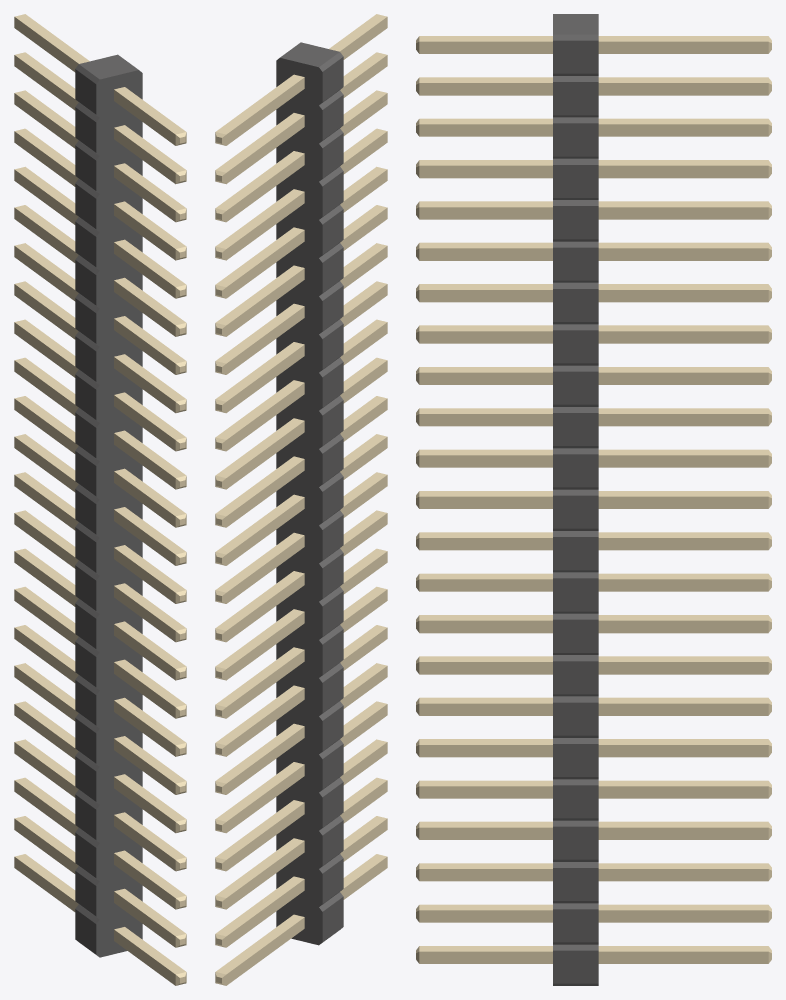
Rendered from PinHeader_1x23_P1.00mm_Vertical.glb.
3 views of the same model, side by side, from view 1: azimuth 30°, elevation 25°; view 2: azimuth 150°, elevation 25°; view 3: azimuth 270°, elevation 25° (orthographic). The views are drawn at different scales.
Visible parts, largest first — view 1: Shape_IndexedFaceSet.003, Shape_IndexedFaceSet.001, Shape_IndexedFaceSet.270, Shape_IndexedFaceSet.247, Shape_IndexedFaceSet.274, Shape_IndexedFaceSet.294, Shape_IndexedFaceSet.306, Shape_IndexedFaceSet.317, Shape_IndexedFaceSet.238, Shape_IndexedFaceSet.254, Shape_IndexedFaceSet.267, Shape_IndexedFaceSet.283 (+105 smaller); view 2: Shape_IndexedFaceSet.004, Shape_IndexedFaceSet.247, Shape_IndexedFaceSet.270, Shape_IndexedFaceSet.238, Shape_IndexedFaceSet.262, Shape_IndexedFaceSet.283, Shape_IndexedFaceSet.289, Shape_IndexedFaceSet.253, Shape_IndexedFaceSet.259, Shape_IndexedFaceSet.279, Shape_IndexedFaceSet.293, Shape_IndexedFaceSet.294 (+105 smaller); view 3: Shape_IndexedFaceSet.269, Shape_IndexedFaceSet.308, Shape_IndexedFaceSet.237, Shape_IndexedFaceSet.249, Shape_IndexedFaceSet.256, Shape_IndexedFaceSet.272, Shape_IndexedFaceSet.276, Shape_IndexedFaceSet.291, Shape_IndexedFaceSet.300, Shape_IndexedFaceSet.313, Shape_IndexedFaceSet.315, Shape_IndexedFaceSet.325 (+104 smaller).
Boxes of the visible parts, box(x1,y1,x2,y2) form: Shape_IndexedFaceSet.003: box(96, 70, 142, 957); Shape_IndexedFaceSet.001: box(79, 54, 138, 79); Shape_IndexedFaceSet.270: box(14, 589, 78, 644); Shape_IndexedFaceSet.247: box(14, 207, 78, 262); Shape_IndexedFaceSet.274: box(14, 513, 78, 568); Shape_IndexedFaceSet.294: box(14, 780, 78, 835); Shape_IndexedFaceSet.306: box(14, 131, 78, 186); Shape_IndexedFaceSet.317: box(14, 93, 78, 148); Shape_IndexedFaceSet.238: box(14, 360, 78, 415); Shape_IndexedFaceSet.254: box(14, 284, 78, 339); Shape_IndexedFaceSet.267: box(14, 551, 78, 606); Shape_IndexedFaceSet.283: box(14, 475, 78, 530); Shape_IndexedFaceSet.004: box(276, 58, 322, 945); Shape_IndexedFaceSet.247: box(226, 268, 304, 336); Shape_IndexedFaceSet.270: box(226, 650, 304, 718); Shape_IndexedFaceSet.238: box(226, 421, 304, 489); Shape_IndexedFaceSet.262: box(226, 688, 304, 756); Shape_IndexedFaceSet.283: box(226, 535, 304, 603); Shape_IndexedFaceSet.289: box(226, 917, 304, 985); Shape_IndexedFaceSet.253: box(226, 306, 304, 374); Shape_IndexedFaceSet.259: box(226, 726, 304, 794); Shape_IndexedFaceSet.279: box(226, 497, 304, 565); Shape_IndexedFaceSet.293: box(226, 879, 304, 947); Shape_IndexedFaceSet.294: box(226, 841, 304, 909); Shape_IndexedFaceSet.269: box(598, 620, 768, 633); Shape_IndexedFaceSet.308: box(598, 165, 768, 178); Shape_IndexedFaceSet.237: box(598, 455, 768, 467); Shape_IndexedFaceSet.249: box(598, 248, 768, 260); Shape_IndexedFaceSet.256: box(598, 331, 768, 343); Shape_IndexedFaceSet.272: box(598, 662, 768, 674); Shape_IndexedFaceSet.276: box(598, 579, 768, 591); Shape_IndexedFaceSet.291: box(598, 910, 768, 922); Shape_IndexedFaceSet.300: box(598, 786, 768, 798); Shape_IndexedFaceSet.313: box(598, 207, 768, 219); Shape_IndexedFaceSet.315: box(598, 124, 768, 136); Shape_IndexedFaceSet.325: box(598, 83, 768, 95).
Bounding box in the file's own units: 0.5 × 9.05 × 3.07.
